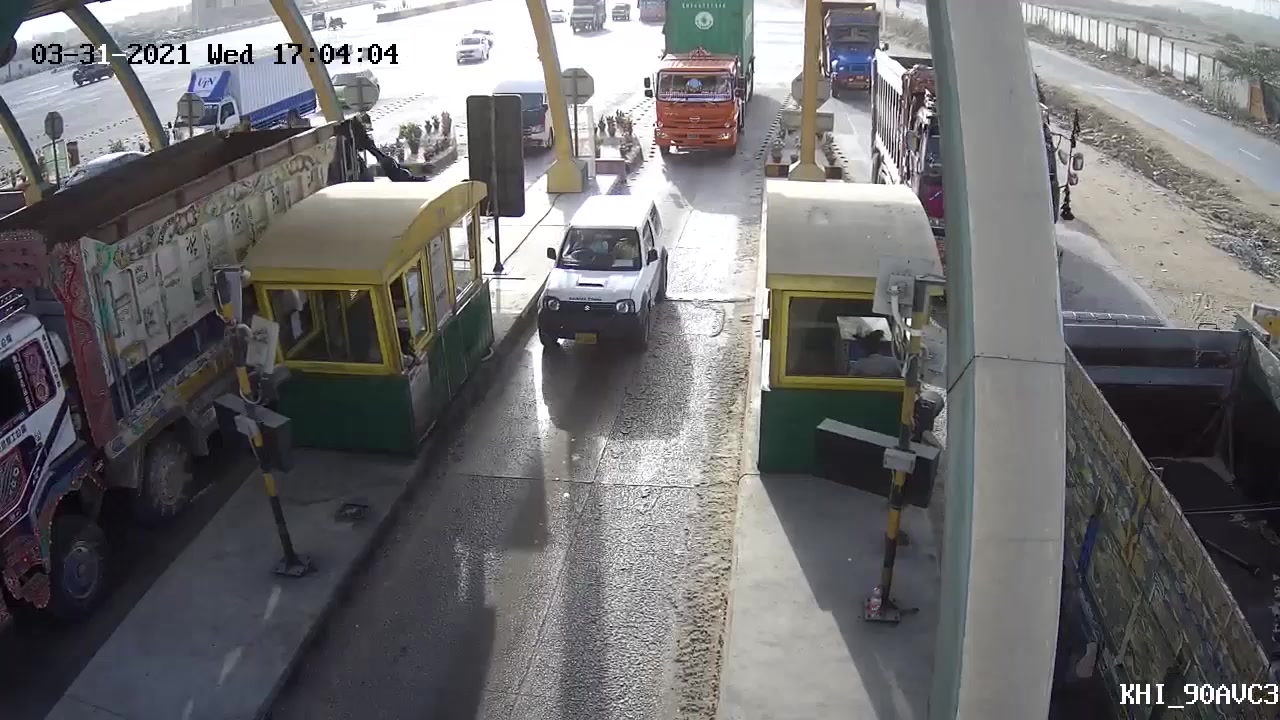F1: (525, 192, 678, 361)
F6: (643, 1, 760, 172)
